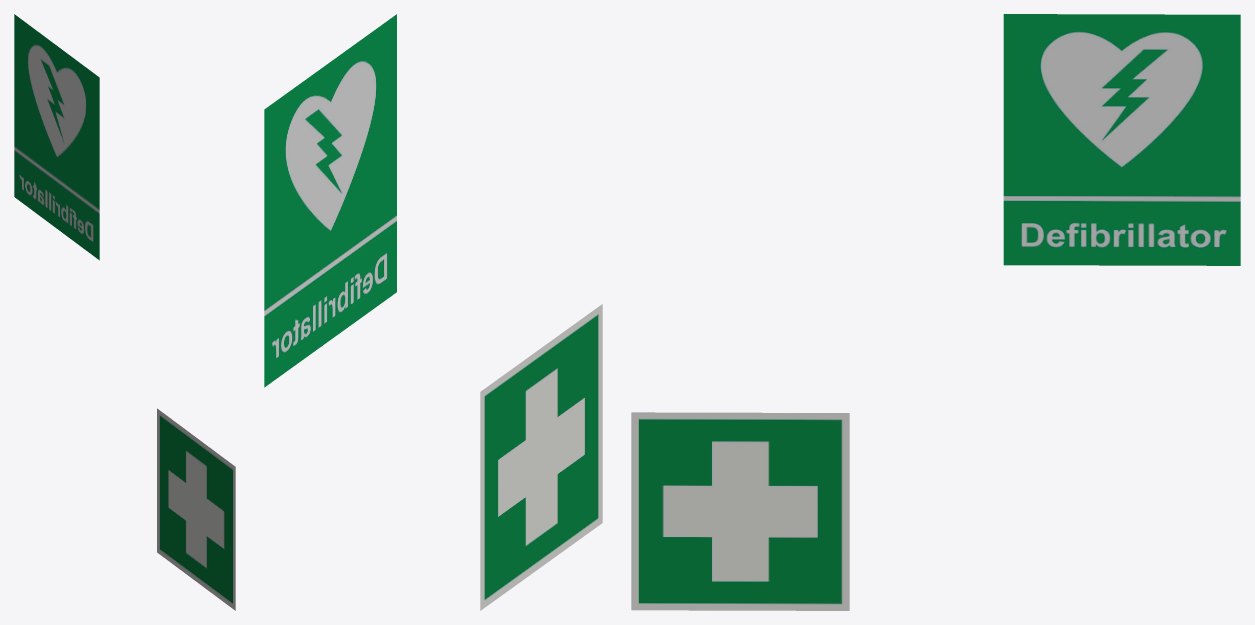
File: plakat_AED.fbx
3 views of the same model, side by side, from view 1: azimuth 30°, elevation 25°; view 2: azimuth 150°, elevation 25°; view 3: azimuth 270°, elevation 25° (orthographic). The views are drawn at different scales.
Parts seen in each view (by area): view 1: plakat_croc; view 2: plakat_croc; view 3: plakat_croc.
Part boxes in pixels (bbox=[...]): plakat_croc: bbox=[14, 14, 235, 610]; plakat_croc: bbox=[264, 14, 602, 610]; plakat_croc: bbox=[631, 14, 1240, 610].
Bounding box in the file's own units: 0.00233 × 0.6967 × 0.6458.
1 material, 1 textured.
